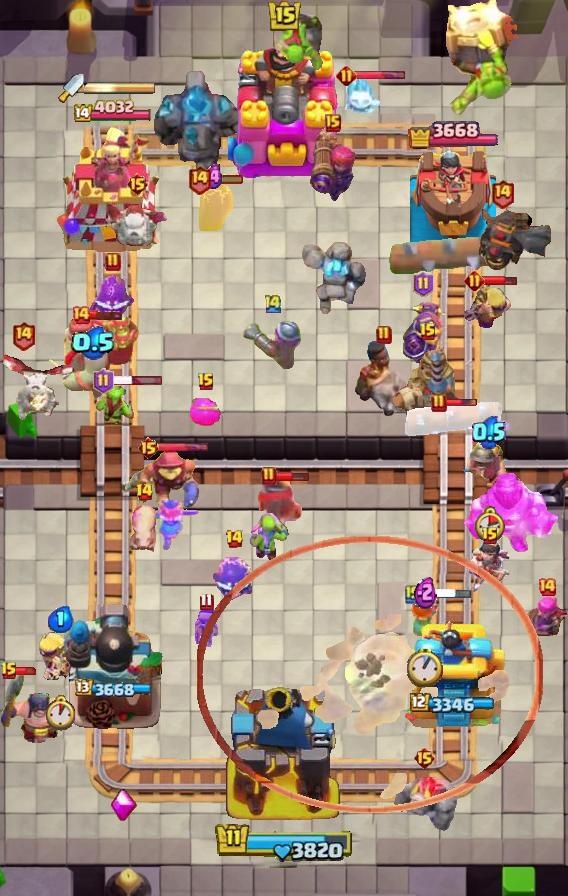archer-evolution: (516, 589, 568, 645)
bar: (419, 587, 473, 600), (157, 442, 209, 453), (111, 375, 163, 386), (354, 70, 406, 81), (482, 274, 518, 287), (88, 309, 124, 321), (209, 173, 245, 185), (274, 471, 310, 482), (444, 398, 478, 408), (7, 666, 39, 676)
bar-level: (11, 320, 36, 351), (490, 178, 515, 209), (187, 164, 212, 195), (413, 746, 436, 770), (137, 436, 160, 460), (126, 172, 149, 196), (93, 368, 114, 394), (413, 271, 434, 297), (464, 270, 485, 291), (336, 65, 357, 86), (263, 293, 283, 314), (537, 577, 557, 597), (71, 305, 91, 325), (225, 529, 244, 549), (135, 482, 154, 502), (0, 661, 18, 681), (481, 526, 499, 546), (197, 372, 215, 392), (419, 322, 437, 342), (405, 584, 421, 604), (261, 466, 277, 486), (431, 393, 447, 413), (376, 325, 392, 345), (105, 252, 121, 272), (325, 114, 341, 132), (199, 592, 214, 611)
barbarian-evolution: (464, 279, 515, 331), (37, 629, 85, 682)
cannoneer-tower: (64, 601, 164, 731)
clock: (407, 647, 443, 687), (44, 695, 78, 731), (474, 506, 505, 542)
dagger-duchess-tower: (55, 126, 173, 256)
dagger-duchess-tower-bar: (84, 81, 156, 95)
electro-spirit: (89, 273, 137, 325), (210, 554, 258, 600), (193, 181, 233, 231)
elixir: (71, 326, 116, 360), (472, 415, 506, 449), (414, 574, 437, 609), (48, 606, 74, 633), (201, 164, 226, 190)
elixir-golem-small: (190, 396, 222, 426)
evolution-symbol: (109, 789, 137, 823)
executioner: (0, 671, 70, 747)
firecracker-evolution: (309, 128, 357, 204)
goblin: (247, 510, 289, 562), (93, 386, 135, 424)
goblin-ball: (272, 11, 326, 73)
golemite: (298, 239, 372, 321), (390, 771, 458, 831)
hog: (128, 502, 160, 552)
ice-spirit: (339, 78, 381, 124)
king-tower: (223, 680, 345, 826), (228, 29, 340, 181)
king-tower-bar: (215, 822, 354, 863)
knight: (256, 473, 303, 531)
knight-evolution: (401, 301, 445, 369)
miner: (455, 432, 523, 498)
musketeer: (242, 319, 304, 373)
princess: (468, 537, 512, 597)
queen-tower: (399, 617, 507, 731), (410, 145, 496, 256)
ram-rider: (354, 341, 414, 417)
skeleton-evolution: (190, 607, 222, 649)
the-log: (387, 234, 511, 274), (402, 400, 504, 436)
tower-bar: (408, 118, 498, 153), (74, 99, 154, 125), (410, 693, 497, 715), (75, 679, 154, 699)
valkyrie: (153, 498, 201, 552), (406, 594, 444, 646)
